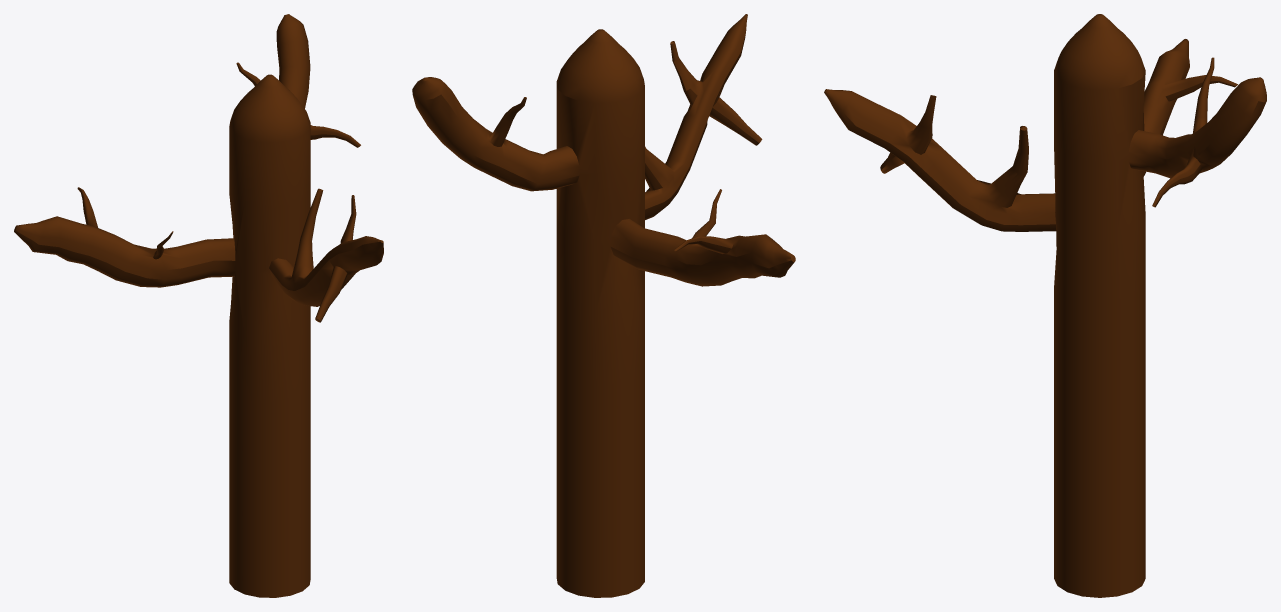
File: deadwood.fbx
3 renders of one model, left to right at view 1: azimuth 30°, elevation 25°; view 2: azimuth 150°, elevation 25°; view 3: azimuth 270°, elevation 25°, orthographic. The views are drawn at different scales.
Visible parts, largest first — view 1: deadwood; view 2: deadwood; view 3: deadwood.
Part boxes in pixels (x1,y1,x2,y2): deadwood: (14,14,383,597); deadwood: (412,14,795,597); deadwood: (824,14,1266,597).
Bounding box in the file's own units: 257 × 373 × 266.
